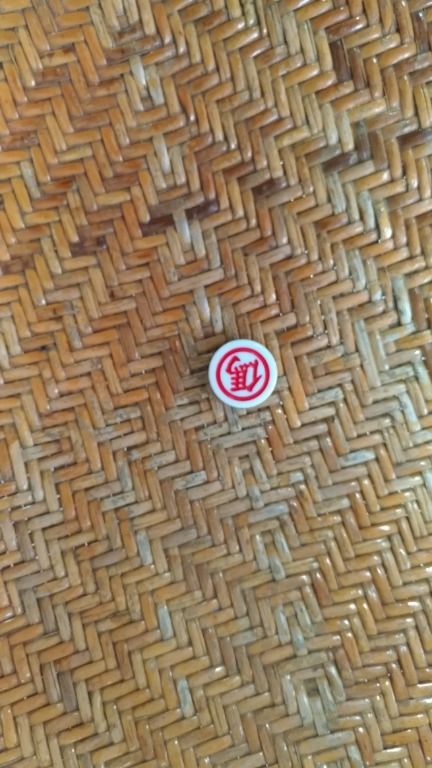r-knight: (201, 334, 299, 419)
